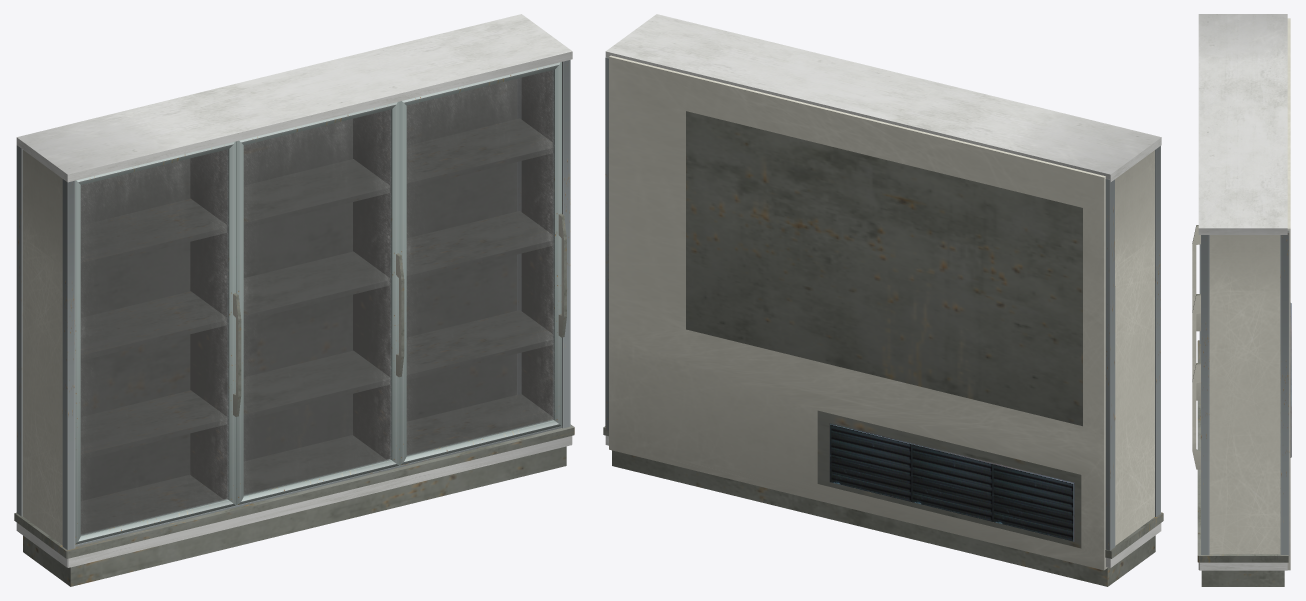
File: drinkcooler3_1.fbx
3 views of the same model, side by side, from view 1: azimuth 30°, elevation 25°; view 2: azimuth 150°, elevation 25°; view 3: azimuth 270°, elevation 25° (orthographic). The views are drawn at different scales.
Visible parts, largest first — view 1: drinkcooler3_1, drinkcooler3_4, drinkcooler3_3, drinkcooler3_2; view 2: drinkcooler3_1; view 3: drinkcooler3_1, drinkcooler3_2, drinkcooler3_4, drinkcooler3_3.
Part boxes in pixels (x1,y1,x2,y2): drinkcooler3_1: (14,14,574,586); drinkcooler3_4: (236,101,404,505); drinkcooler3_3: (75,141,241,544); drinkcooler3_2: (399,62,566,465); drinkcooler3_1: (603,14,1163,586); drinkcooler3_1: (1197,14,1291,586); drinkcooler3_2: (1192,363,1200,469); drinkcooler3_4: (1192,294,1200,400); drinkcooler3_3: (1192,225,1200,331).
Bounding box in the file's own units: 252 × 197 × 49.16.
